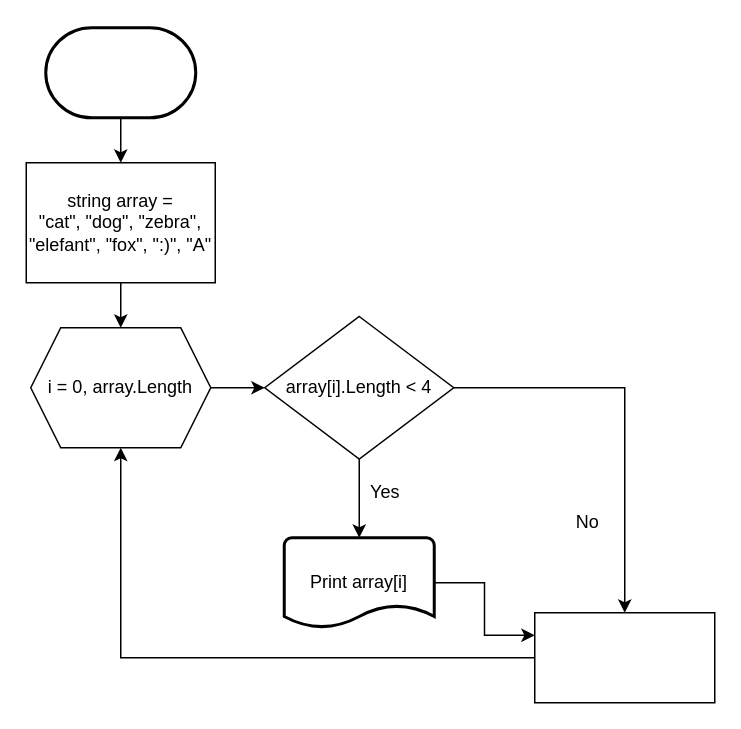
The diagram is 741 pixels wide and 729 high, and some of its shapes have lost their labels. The box of each missing label's shape, as (x1, y1, x2, y2) in pixels:
i = i + 1: (533, 611, 715, 703)
Start: (44, 26, 196, 118)
